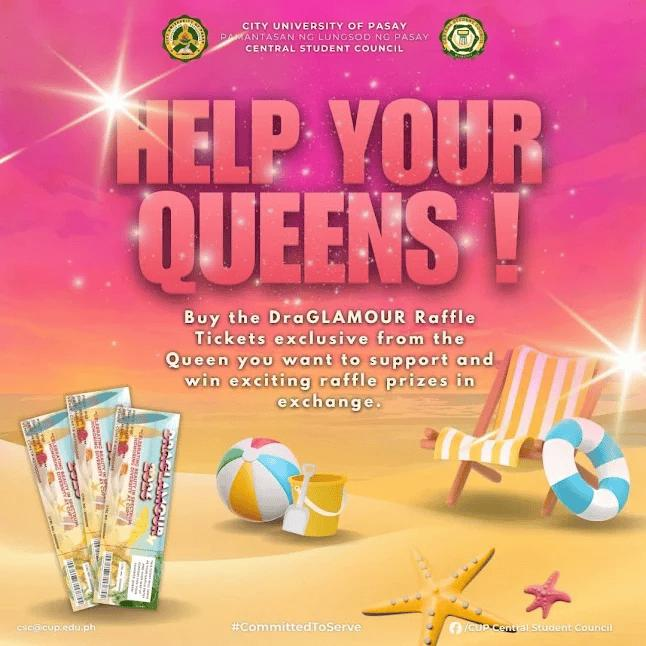embellishment: (358, 541, 518, 646), (570, 305, 646, 415), (72, 62, 167, 143), (522, 565, 576, 624), (446, 618, 467, 639)
logo: (434, 12, 492, 62), (160, 12, 211, 63)
text: (108, 89, 559, 300), (160, 307, 500, 411), (217, 17, 431, 58), (467, 618, 617, 637), (228, 619, 367, 638), (11, 619, 100, 635)
